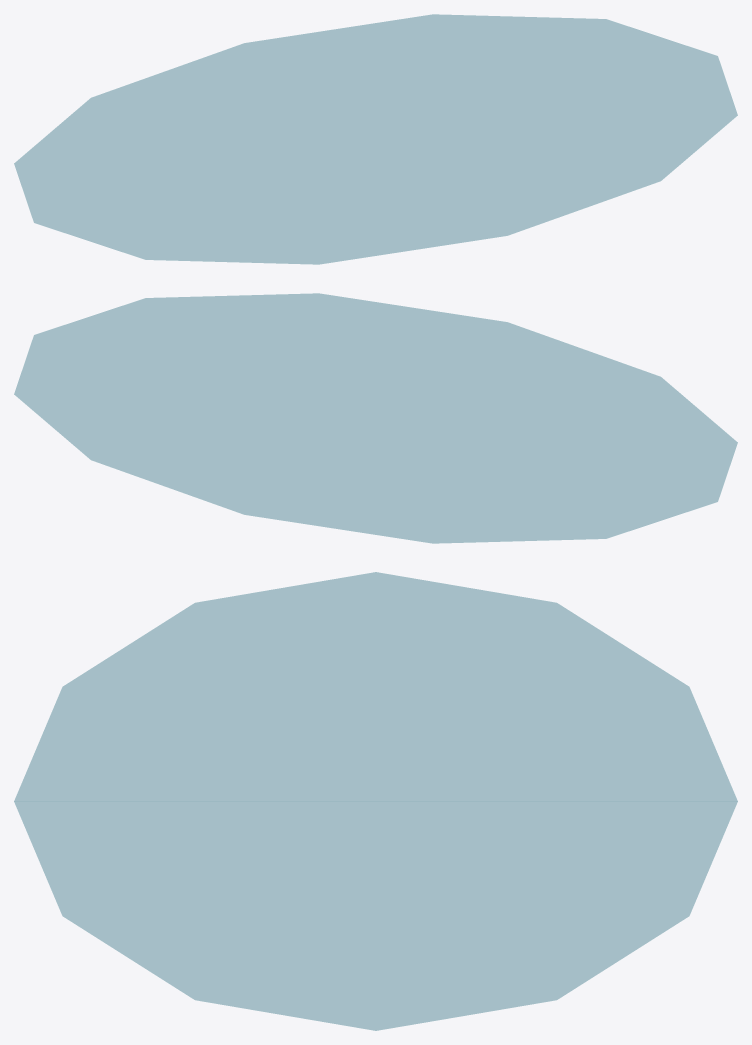
File: lake-area.glb
3 renders of one model, top to bottom at view 1: azimuth 30°, elevation 25°; view 2: azimuth 150°, elevation 25°; view 3: azimuth 270°, elevation 25°, orthographic. The views are drawn at different scales.
Visible parts, largest first — view 1: spatial-root; view 2: spatial-root; view 3: spatial-root.
Boxes of the visible parts, x1,y1,x2,y2 form: spatial-root: (14, 14, 737, 264); spatial-root: (14, 293, 737, 543); spatial-root: (14, 572, 737, 1030).
Bounding box in the file's own units: 18 × 0 × 12.
